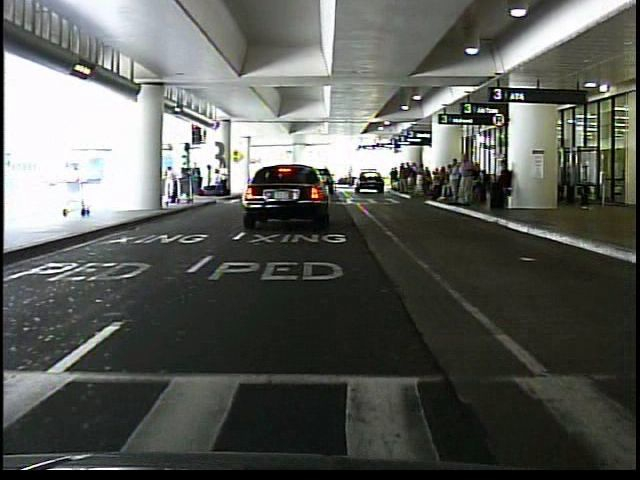person: (456, 151, 477, 211), (161, 164, 181, 217)
